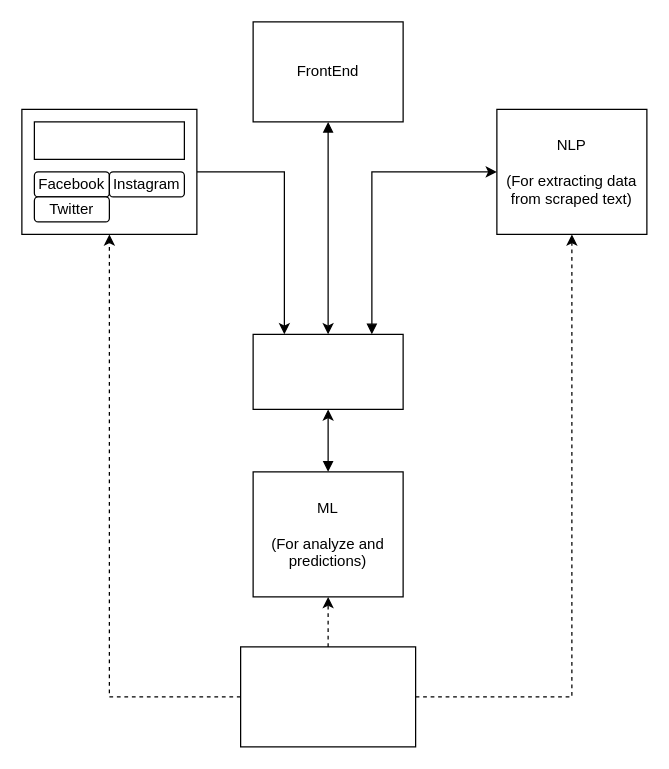
This 669x769 diagram has some shape labels left out. Each missing label, with the centre of its shape:
DB (PocketBase): (x=327, y=371)
n8n (Job automation): (x=327, y=696)
Scrapper: (x=108, y=140)
